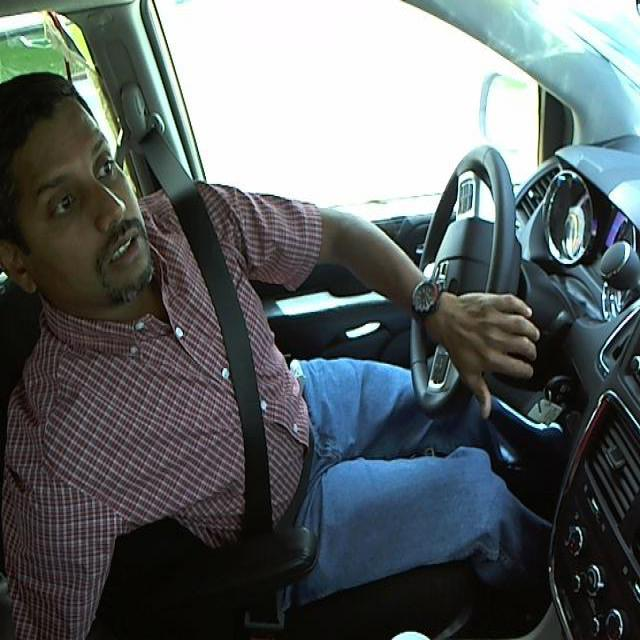seatbelt: (158, 189, 313, 582)
